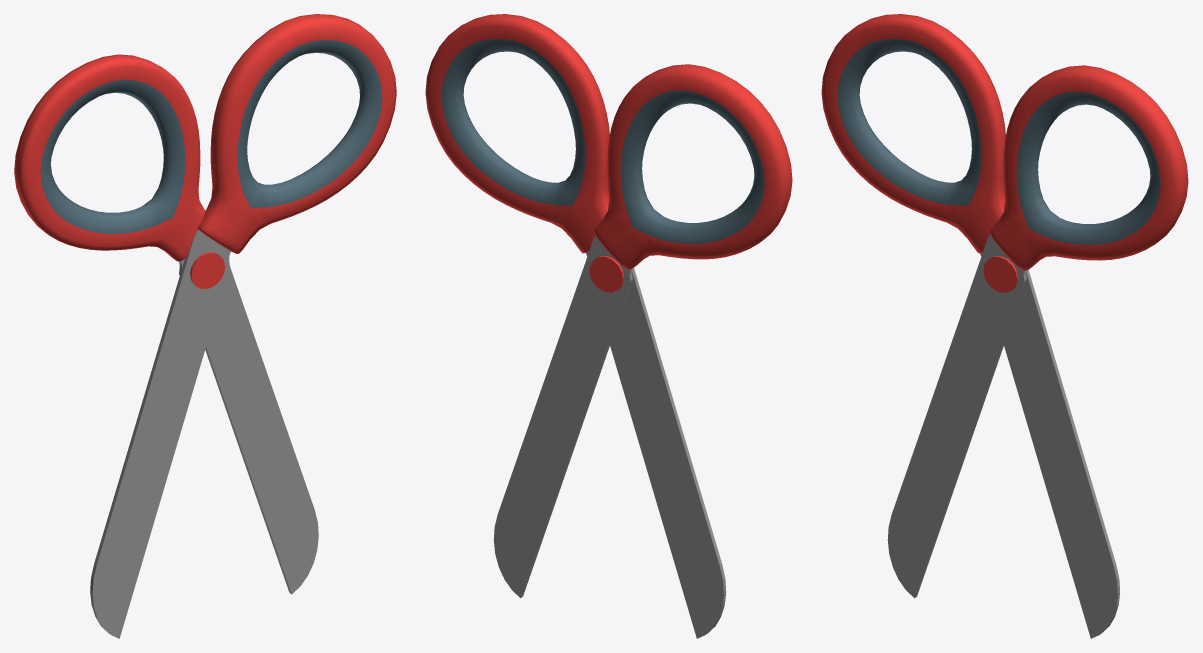
Rendered from scissors.gltf.
3 renders of one model, left to right at view 1: azimuth 30°, elevation 25°; view 2: azimuth 150°, elevation 25°; view 3: azimuth 330°, elevation 25°, orthographic.
Visible parts, largest first — view 1: Plane.342; view 2: Plane.342; view 3: Plane.342.
Boxes of the visible parts, x1=… form: Plane.342: x1=14, y1=14, x2=396, y2=638; Plane.342: x1=425, y1=14, x2=792, y2=638; Plane.342: x1=821, y1=14, x2=1188, y2=638.
Size of the model in its own units: 1.57 by 2.35 by 0.1551.
1 material, 1 textured.
